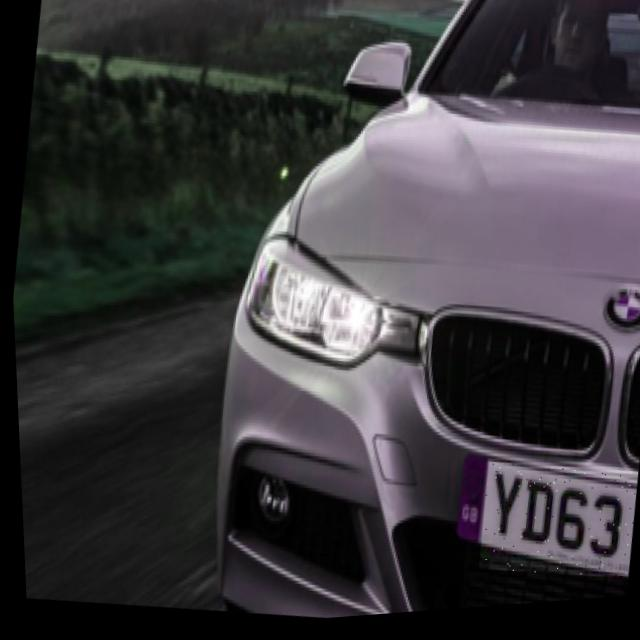license_plate: (469, 460, 637, 597)
